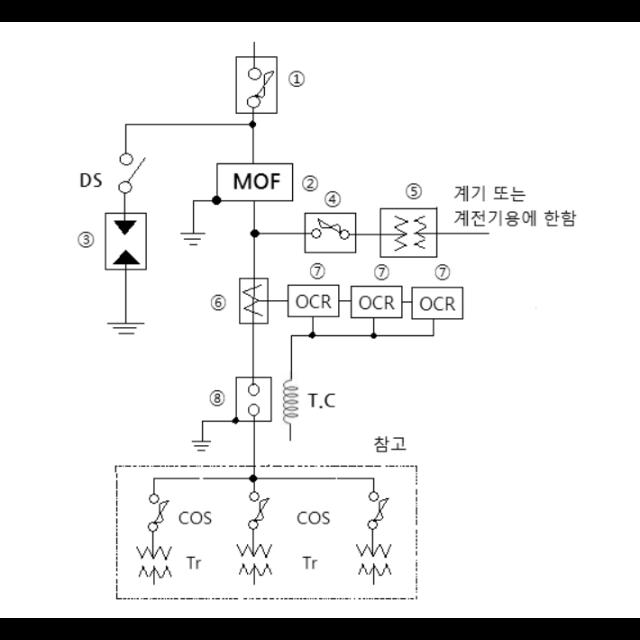CB: (238, 378, 270, 420)
CT: (243, 285, 263, 317)
GND: (102, 320, 146, 338), (179, 231, 207, 247), (191, 438, 213, 454)
LA: (106, 212, 146, 270)
MOF: (217, 166, 293, 200)
PF: (248, 68, 274, 108), (313, 218, 349, 240), (369, 492, 388, 530), (250, 491, 268, 529), (150, 496, 168, 532)
PT: (138, 546, 172, 580), (235, 546, 273, 576), (394, 216, 426, 250), (358, 545, 392, 577)
ds: (121, 153, 145, 193)
